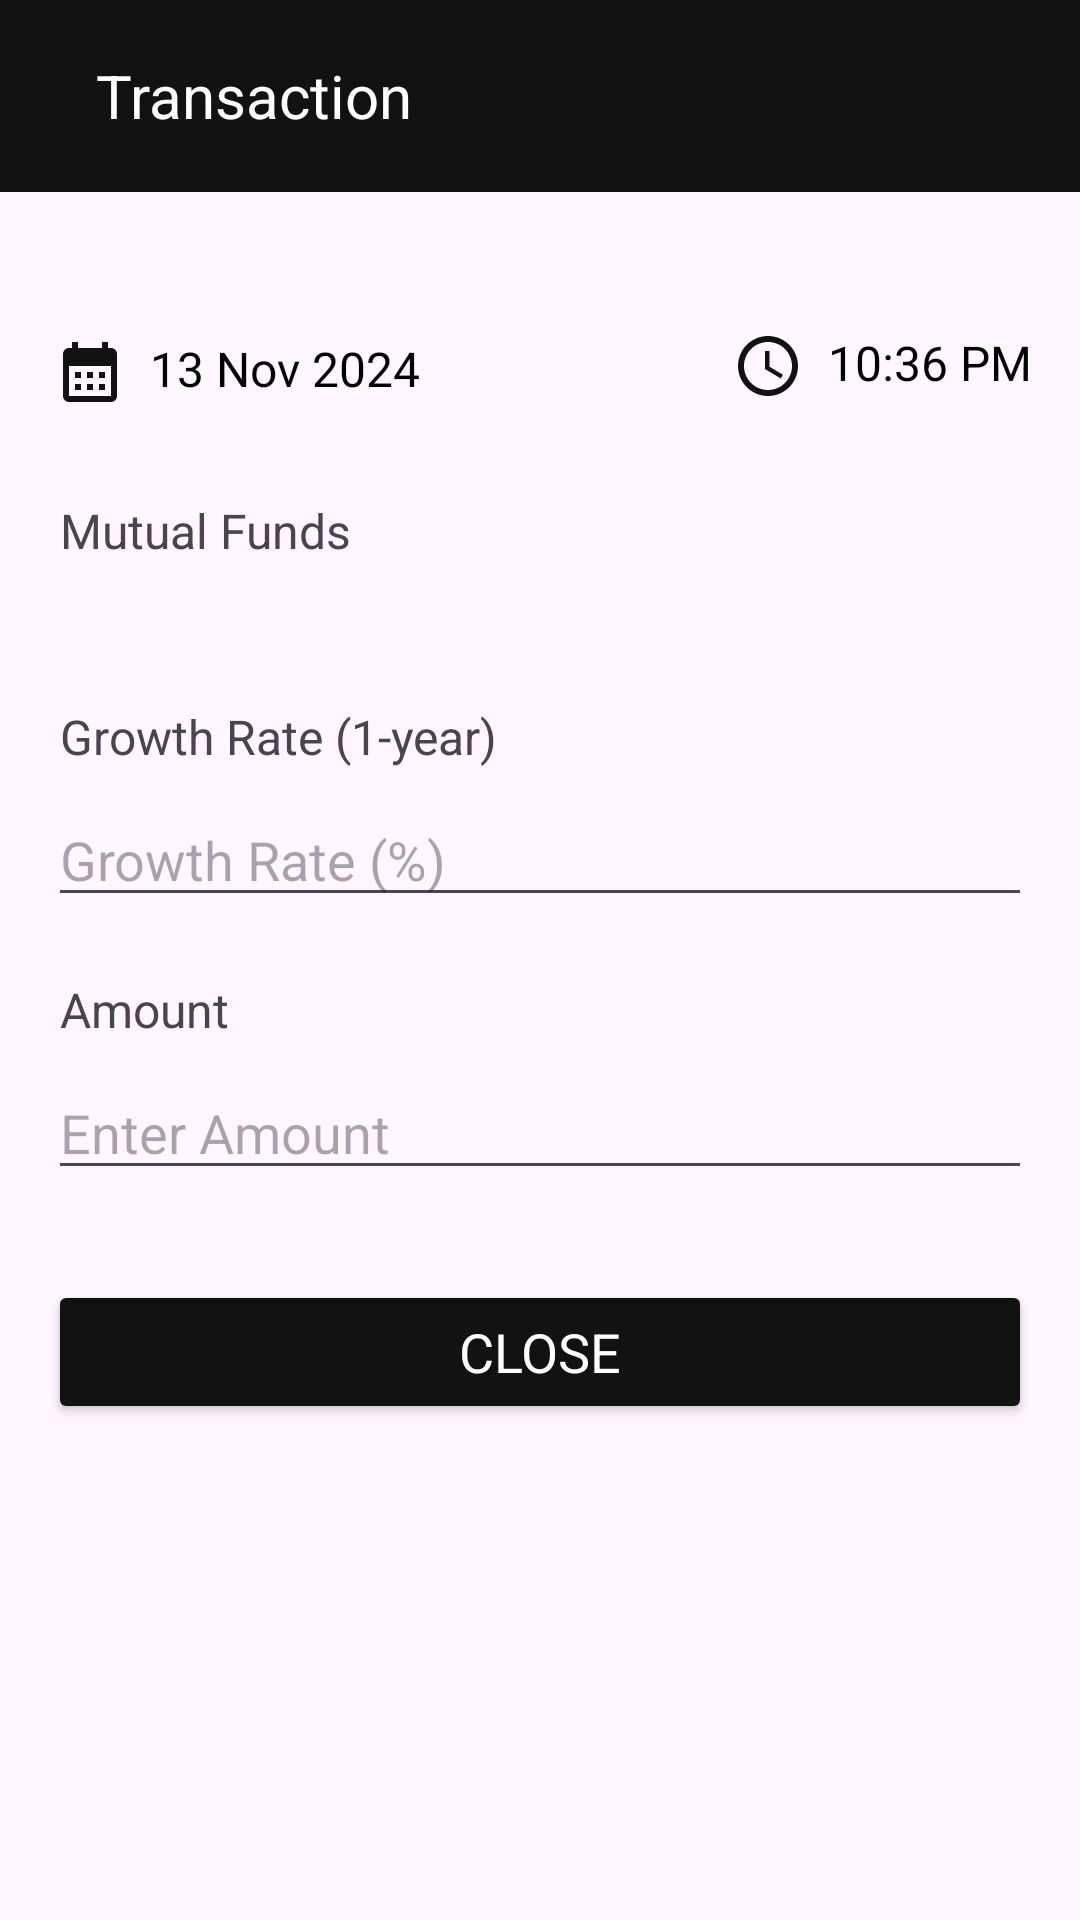

Icon click points for this 1080 x 1920 phone screenshot, format (x,y):
Date Icon: (90,372)
Time Icon: (768,366)
